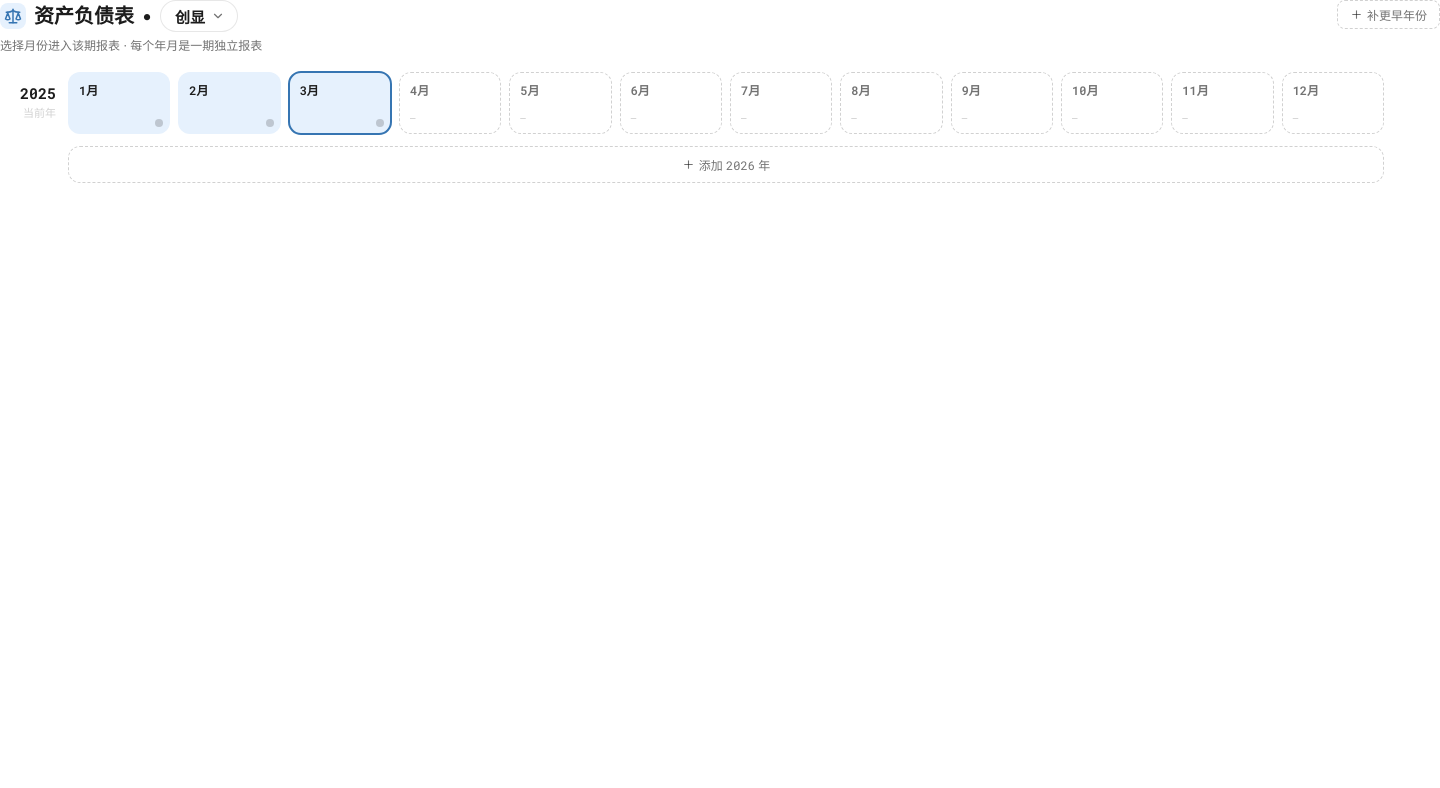
it: 资产负债表 · 期间条 / 公司下拉 / 撤掉的东西 › ❗编辑中:标题旁「编辑中 · N 处改动」随改动数走;右侧 导入 · ··· · 取消 · 保存(导出降进 ···)
Click the button with class "bmm-card" showing "1月" at (119, 103), box [68,72,170,134]
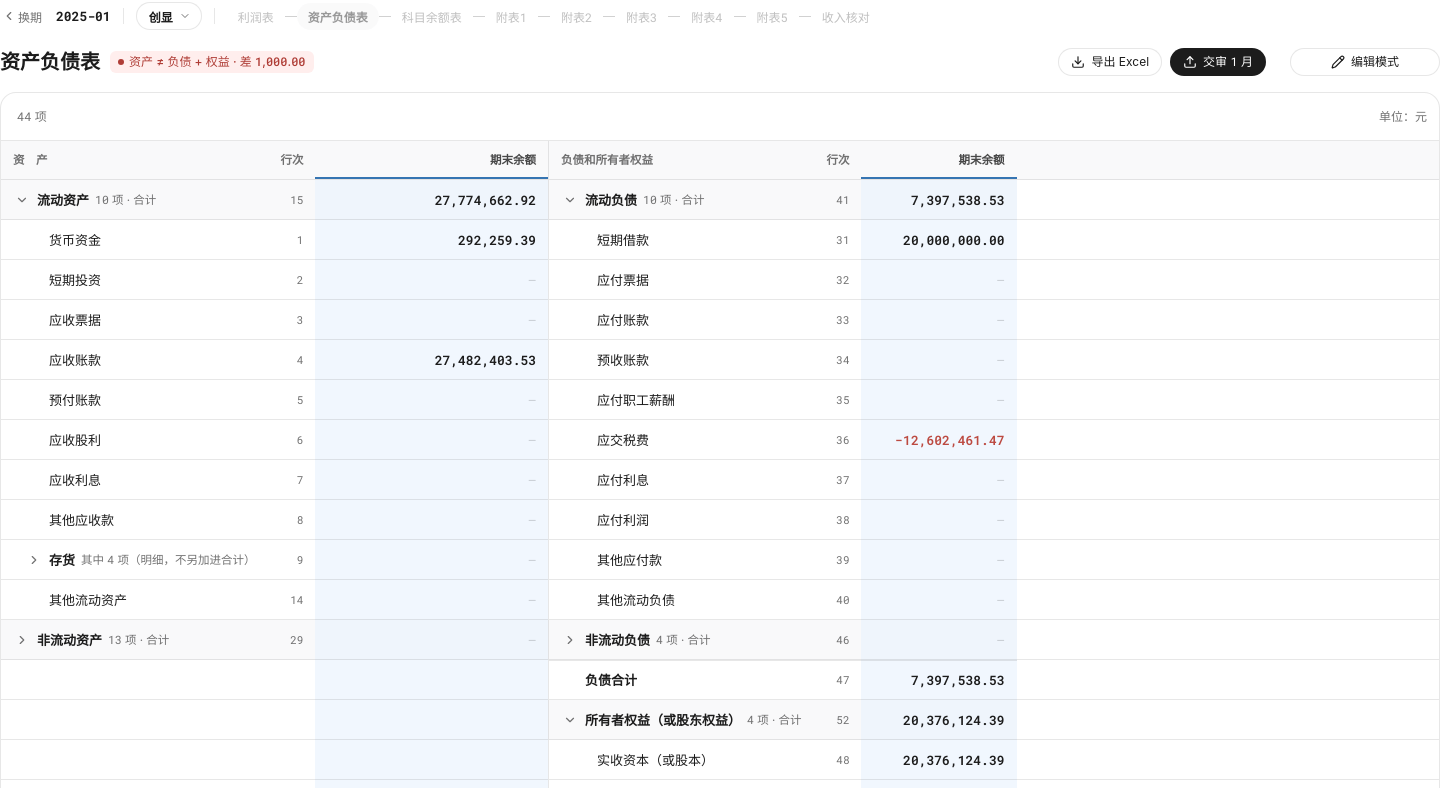
Click the button with class "fp-emb" at (1365, 62), box [1290,48,1439,76]
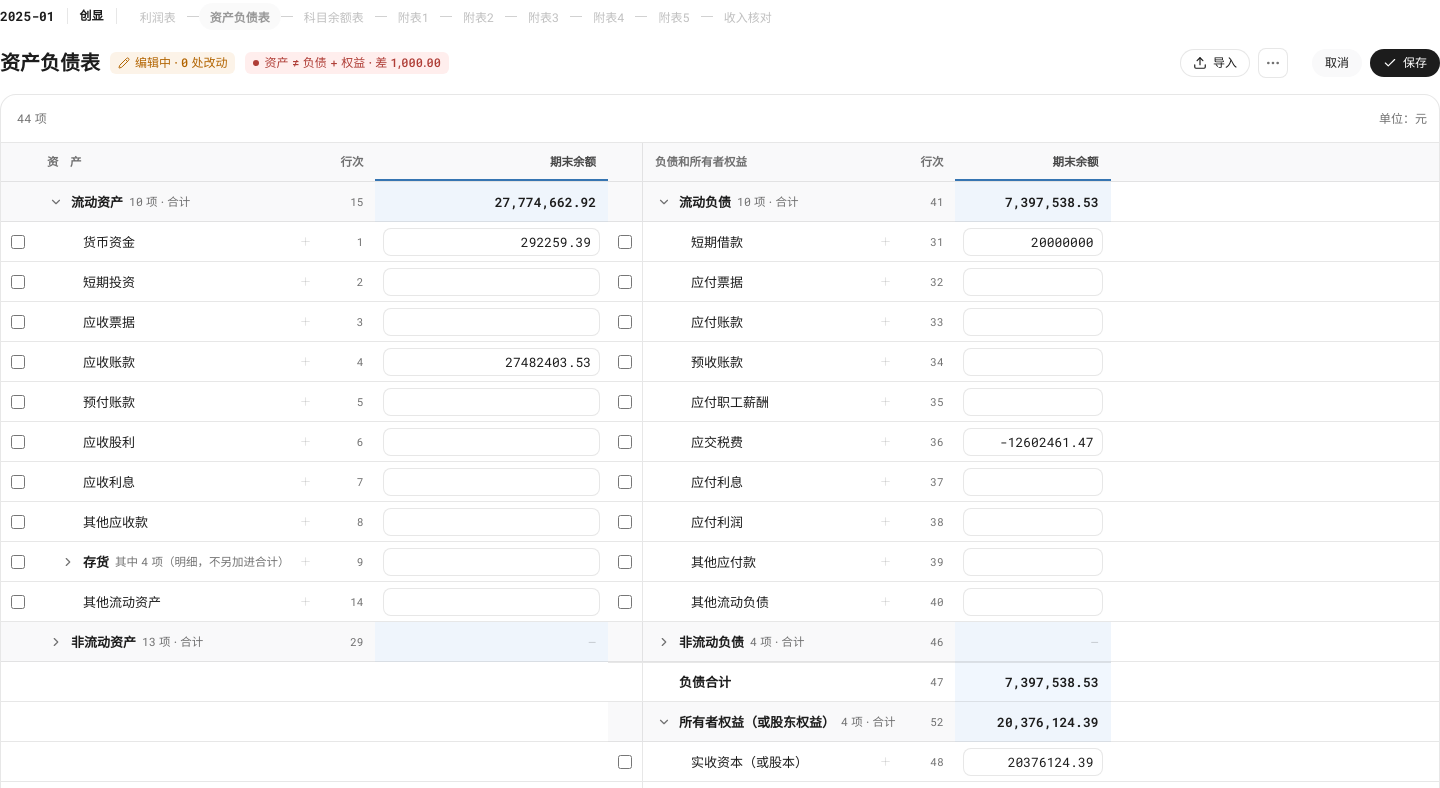
Result: the element with class "edit" reads "编辑中 · 0 处改动" at [135,55,228,70]
Result: the button with class "fp-more-btn" is shown at [1258,48,1288,78]
Replace the text in the 1st number field with class "fin-ni" with "123" at (492, 242), box [383,228,600,256]
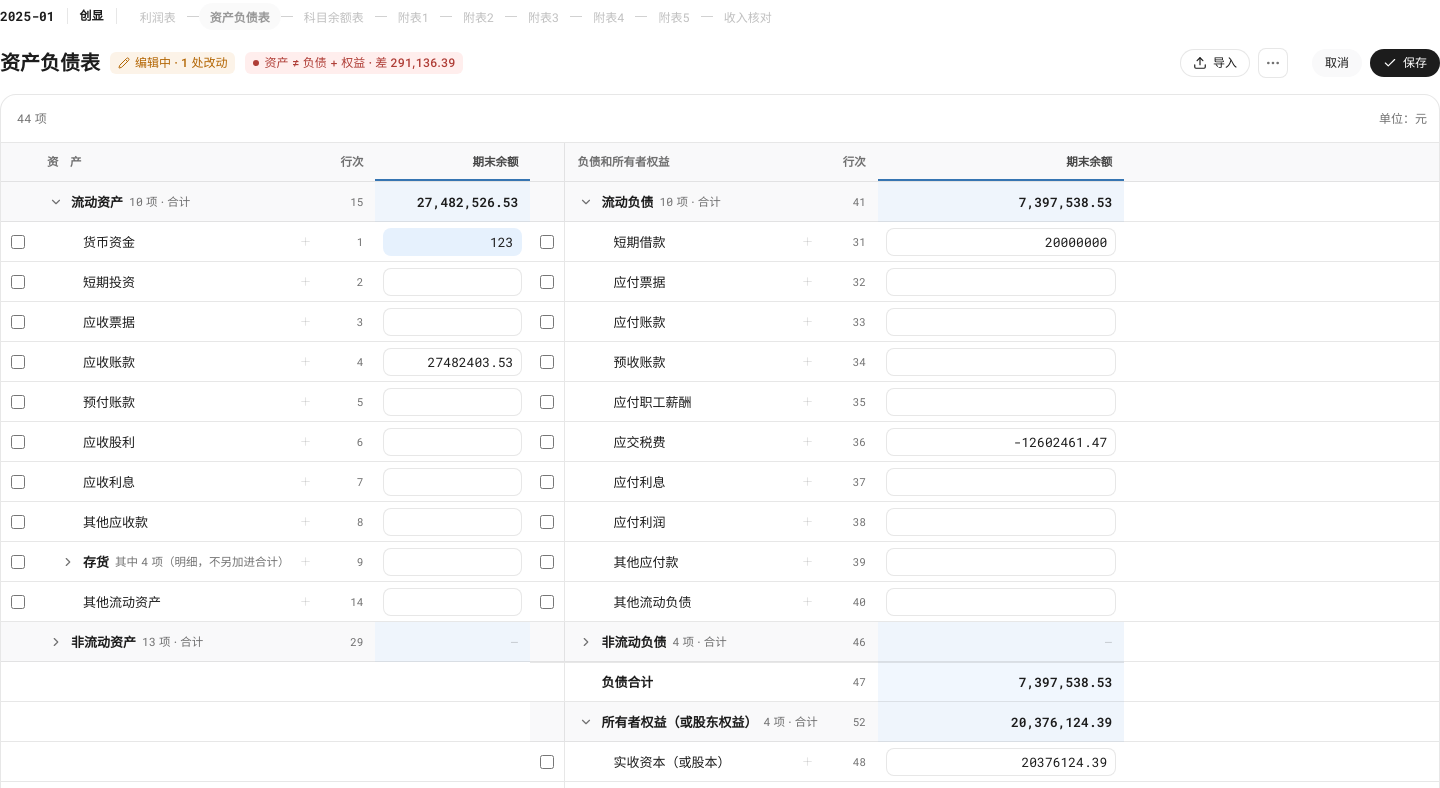
Result: the element with class "edit" reads "编辑中 · 1 处改动" at [135,55,228,70]
